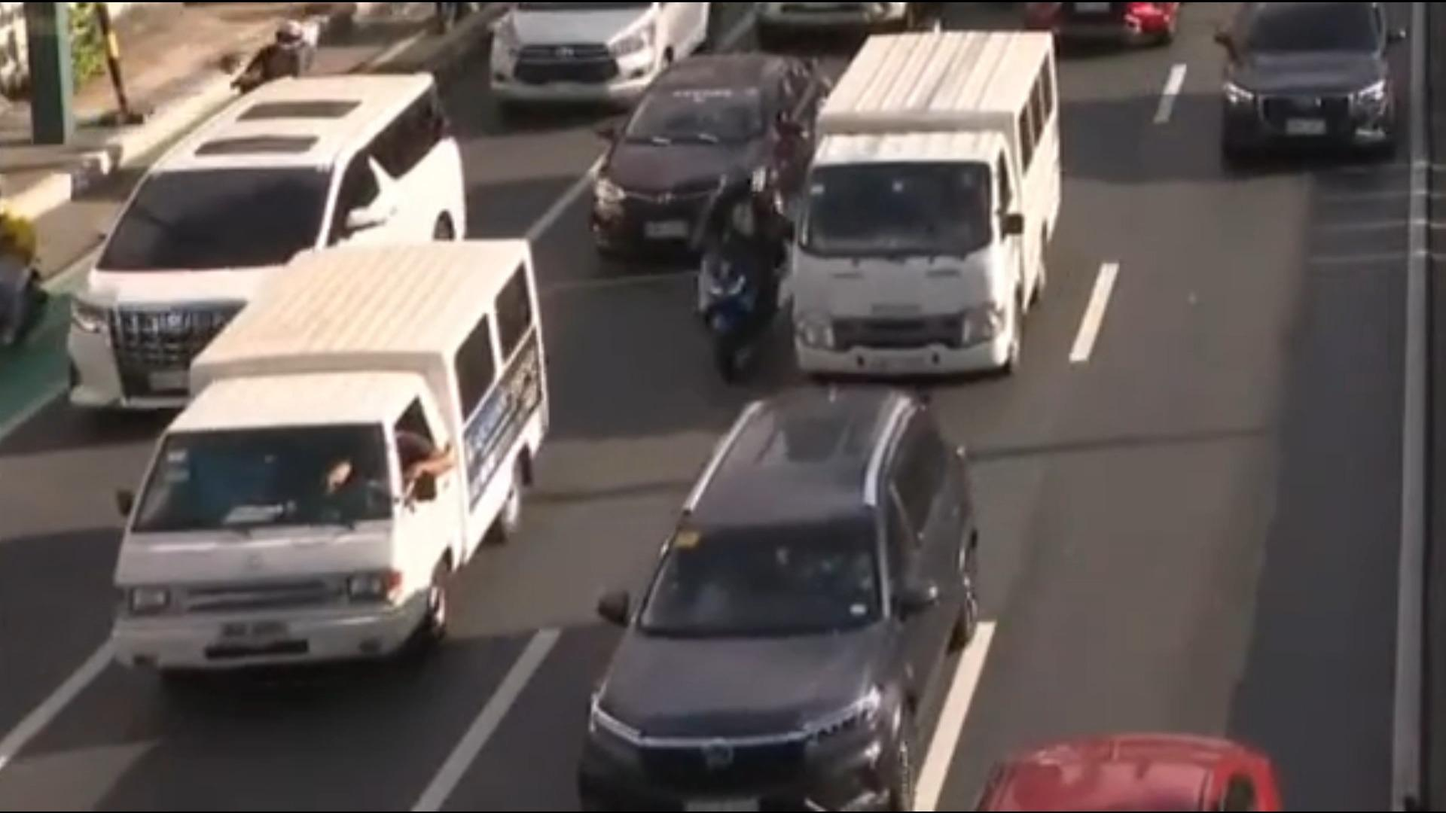Motorcycle: (682, 162, 800, 378), (222, 19, 335, 104)
Multicab: (115, 230, 542, 696), (783, 30, 1079, 391)
SUV: (578, 397, 987, 813)
Sedan: (586, 55, 821, 248), (1209, 2, 1412, 149)
Van: (55, 77, 469, 405)
